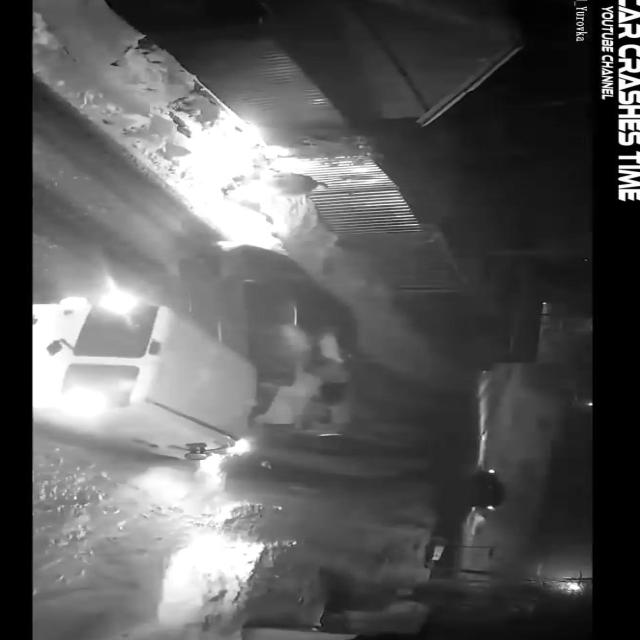accident: (36, 241, 372, 467)
